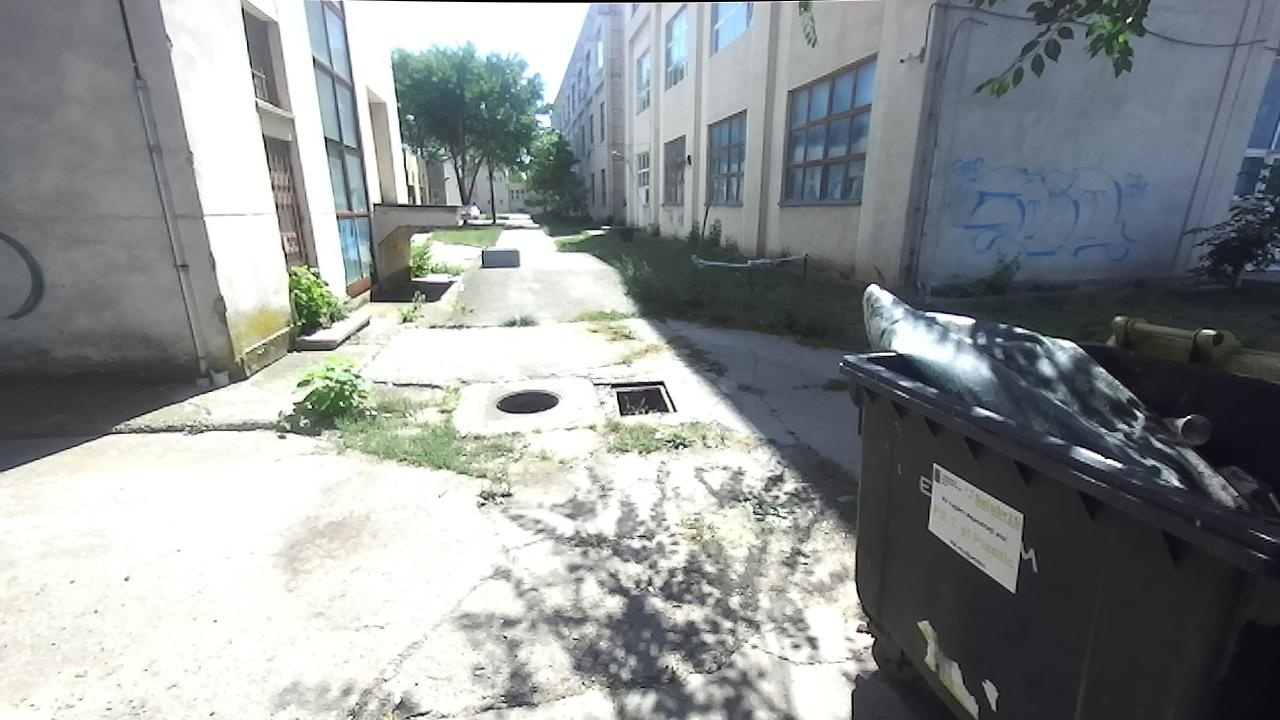drain: (489, 378, 563, 419), (608, 381, 675, 417)
